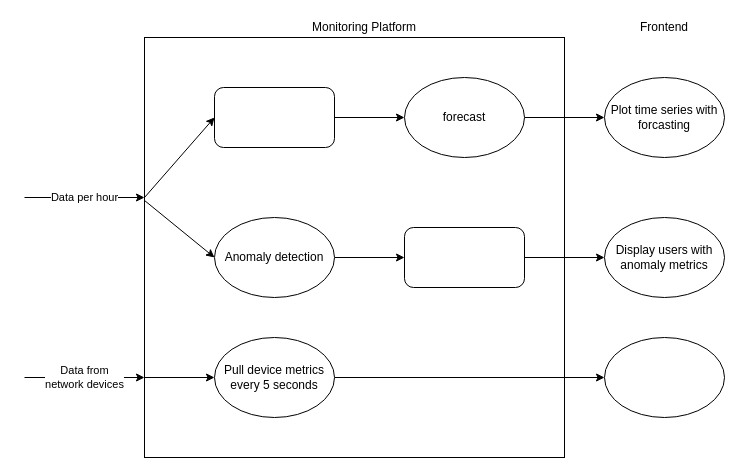
Image size: 742x475. Some labels were removed from this diagram. Here are the shapes that lost their labels. From the top down, the centre of each, then its label:
At (274,117): "calculating mean values of given targets".
At (464,257): "Make a list of users and commutators with anomaly".
At (664,377): "Display online metrics".
